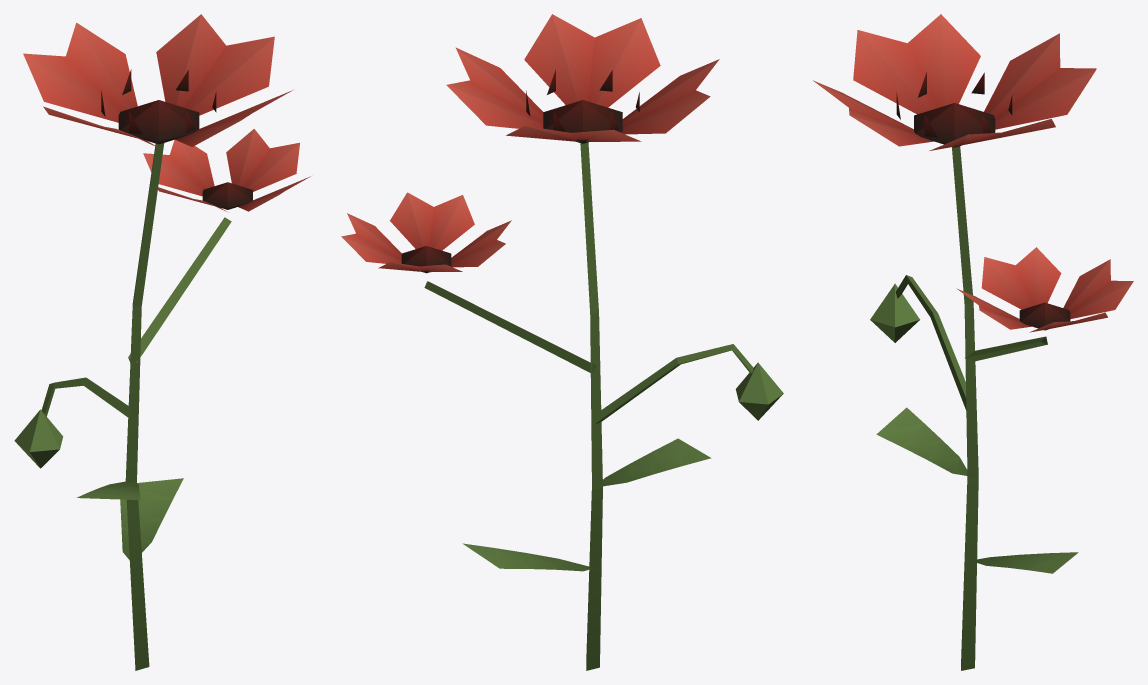
The model's file is flower-poppy.glb.
3 renders of one model, left to right at view 1: azimuth 30°, elevation 25°; view 2: azimuth 150°, elevation 25°; view 3: azimuth 270°, elevation 25°, orthographic. The views are drawn at different scales.
Visible parts, largest first — view 1: poppy; view 2: poppy; view 3: poppy.
Part boxes in pixels (left/top/right/bottom): poppy: left=14, top=14, right=310, bottom=670; poppy: left=341, top=14, right=783, bottom=670; poppy: left=813, top=14, right=1133, bottom=670.
Bounding box in the file's own units: 3.75 × 6 × 2.91.
